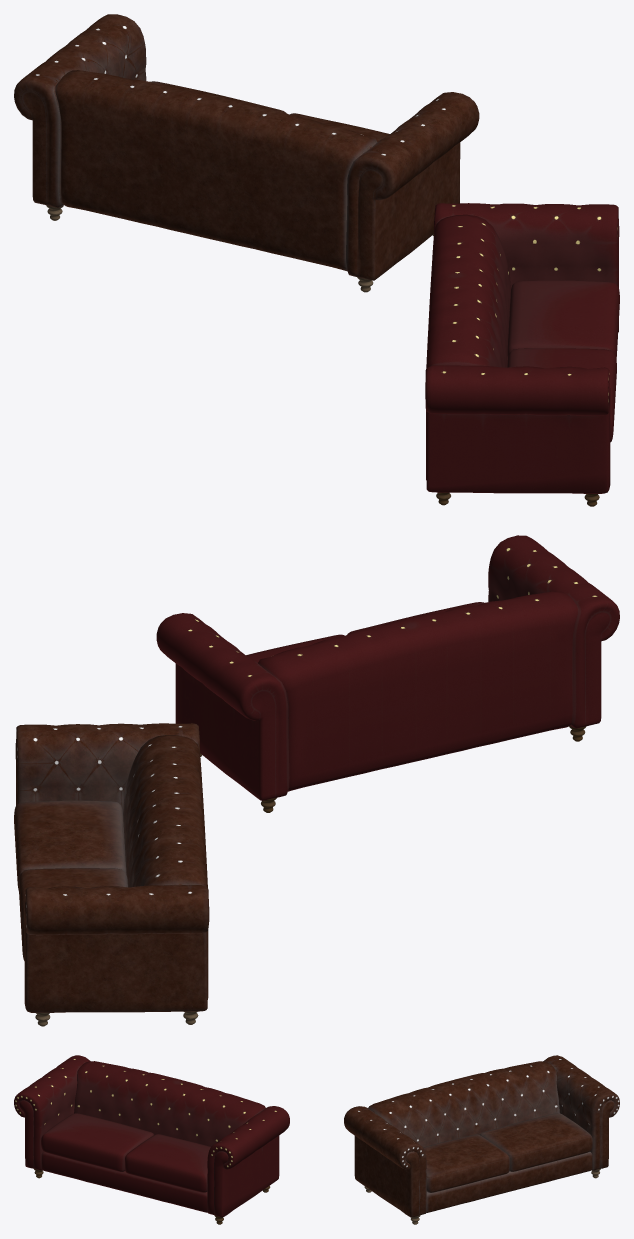
Rendered from lowpoly_couch_-_2_variants.glb.
The picture shows the model from 3 angles, top to bottom: view 1: azimuth 30°, elevation 25°; view 2: azimuth 150°, elevation 25°; view 3: azimuth 270°, elevation 25°; orthographic projection. The views are drawn at different scales.
Parts seen in each view (by area): view 1: couch_leather_0, couch_suede_1; view 2: couch_suede_1, couch_leather_0; view 3: couch_suede_1, couch_leather_0.
Part boxes in pixels (left/top/right/bottom): couch_leather_0: left=14, top=14, right=479, bottom=292; couch_suede_1: left=425, top=203, right=619, bottom=506; couch_suede_1: left=156, top=535, right=619, bottom=812; couch_leather_0: left=14, top=723, right=209, bottom=1026; couch_suede_1: left=14, top=1055, right=289, bottom=1224; couch_leather_0: left=344, top=1055, right=619, bottom=1224.
Size of the model in its own units: 1.93 by 0.8455 by 5.14.
2 materials, 2 textured.
